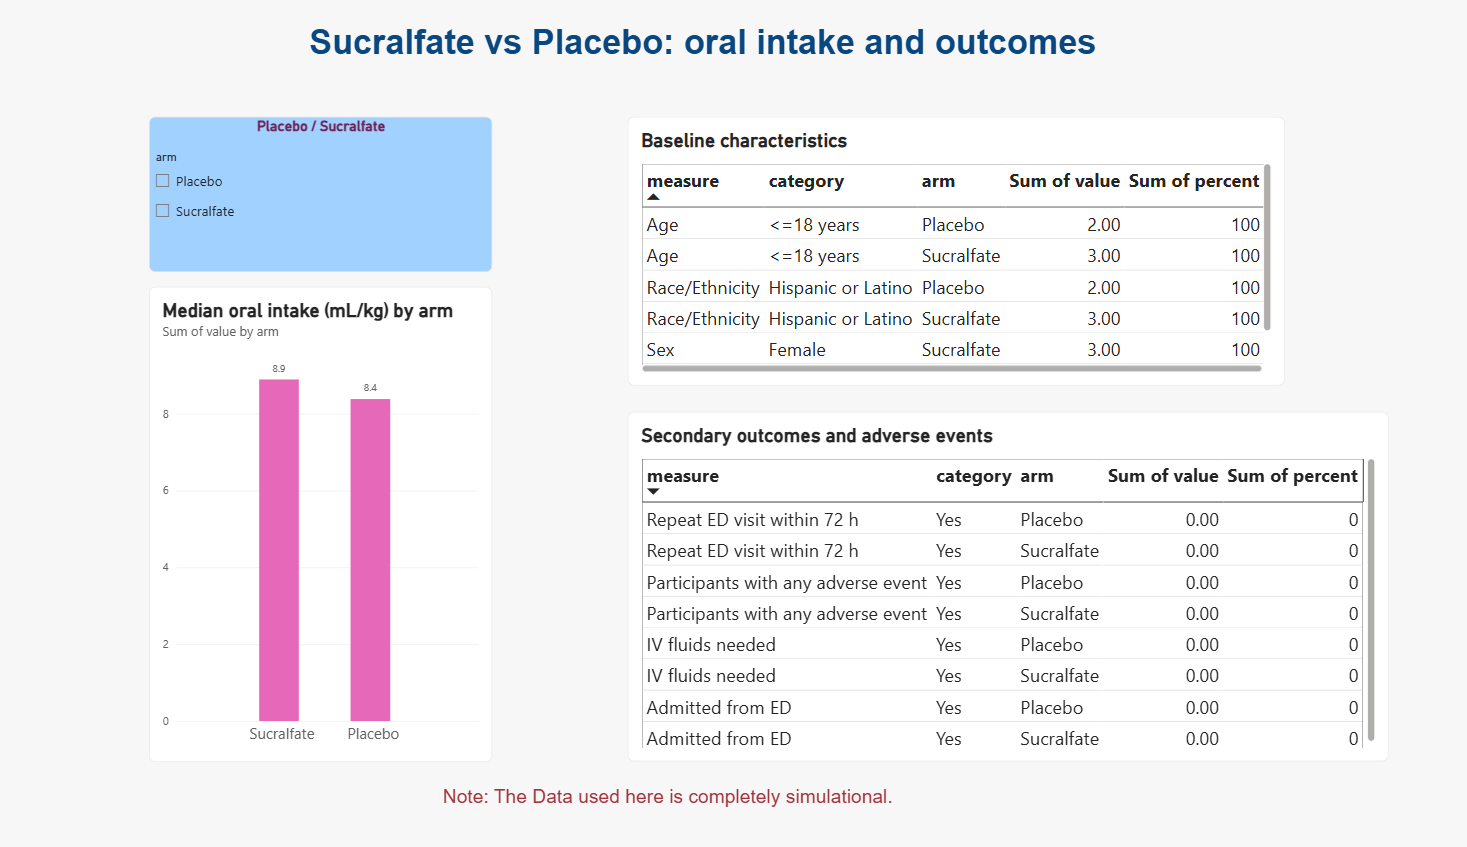

This screenshot's page, from the dashboard's own definition file:
{"tool":"powerbi","page":{"name":"Page 1","canvas":[1920,1080],"ordinal":0},"visuals":[{"type":"clusteredColumnChart","title":"Median oral intake (mL/kg) by arm","fields":{"Category":["results_mock_simulated_CT.arm"],"Y":["Sum(results_mock_simulated_CT.value)"]},"box":[267.6,372.6,428.1,592.8],"z":0},{"type":"tableEx","title":"Baseline characteristics","fields":{"Values":["results_mock_simulated_CT.measure","results_mock_simulated_CT.category","results_mock_simulated_CT.arm","Sum(results_mock_simulated_CT.value)","Sum(results_mock_simulated_CT.percent)"]},"box":[864.5,160.5,819.2,335.5],"z":3},{"type":"tableEx","title":"Secondary outcomes and adverse events","fields":{"Values":["results_mock_simulated_CT.measure","results_mock_simulated_CT.category","results_mock_simulated_CT.arm","Sum(results_mock_simulated_CT.value)","Sum(results_mock_simulated_CT.percent)"]},"box":[864.5,529,948.9,436.4],"z":5},{"type":"slicer","title":"Placebo / Sucralfate","fields":{"Values":["results_mock_simulated_CT.arm"]},"box":[267.6,160.5,428.1,193.5],"z":7},{"type":"textbox","box":[461.7,43.3,995,150],"z":8},{"type":"textbox","box":[635,995,693.3,66.7],"z":9}]}

Visuals, with their boxes in screenshot pixels (x1, y1, x2, y2), scaled from the page's 1920x1080 canvas onto the 1467x847 screenshot:
"Median oral intake (mL/kg) by arm" clusteredColumnChart: region(204, 292, 532, 757)
"Baseline characteristics" tableEx: region(661, 126, 1286, 389)
"Secondary outcomes and adverse events" tableEx: region(661, 415, 1386, 757)
"Placebo / Sucralfate" slicer: region(204, 126, 532, 278)
textbox: region(353, 34, 1113, 152)
textbox: region(485, 780, 1015, 833)
